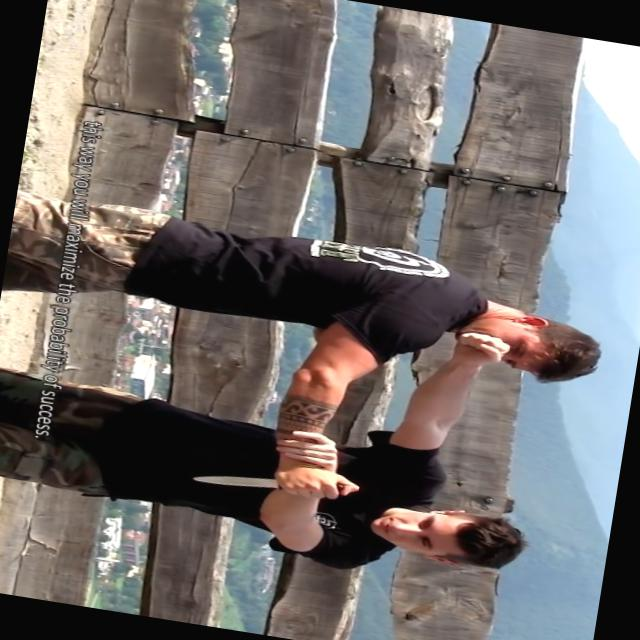knife: (188, 455, 360, 509)
